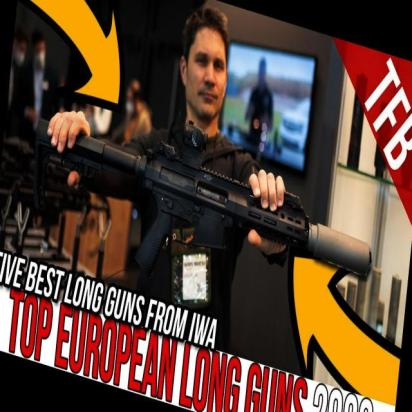Gun: (56, 136, 374, 264)
